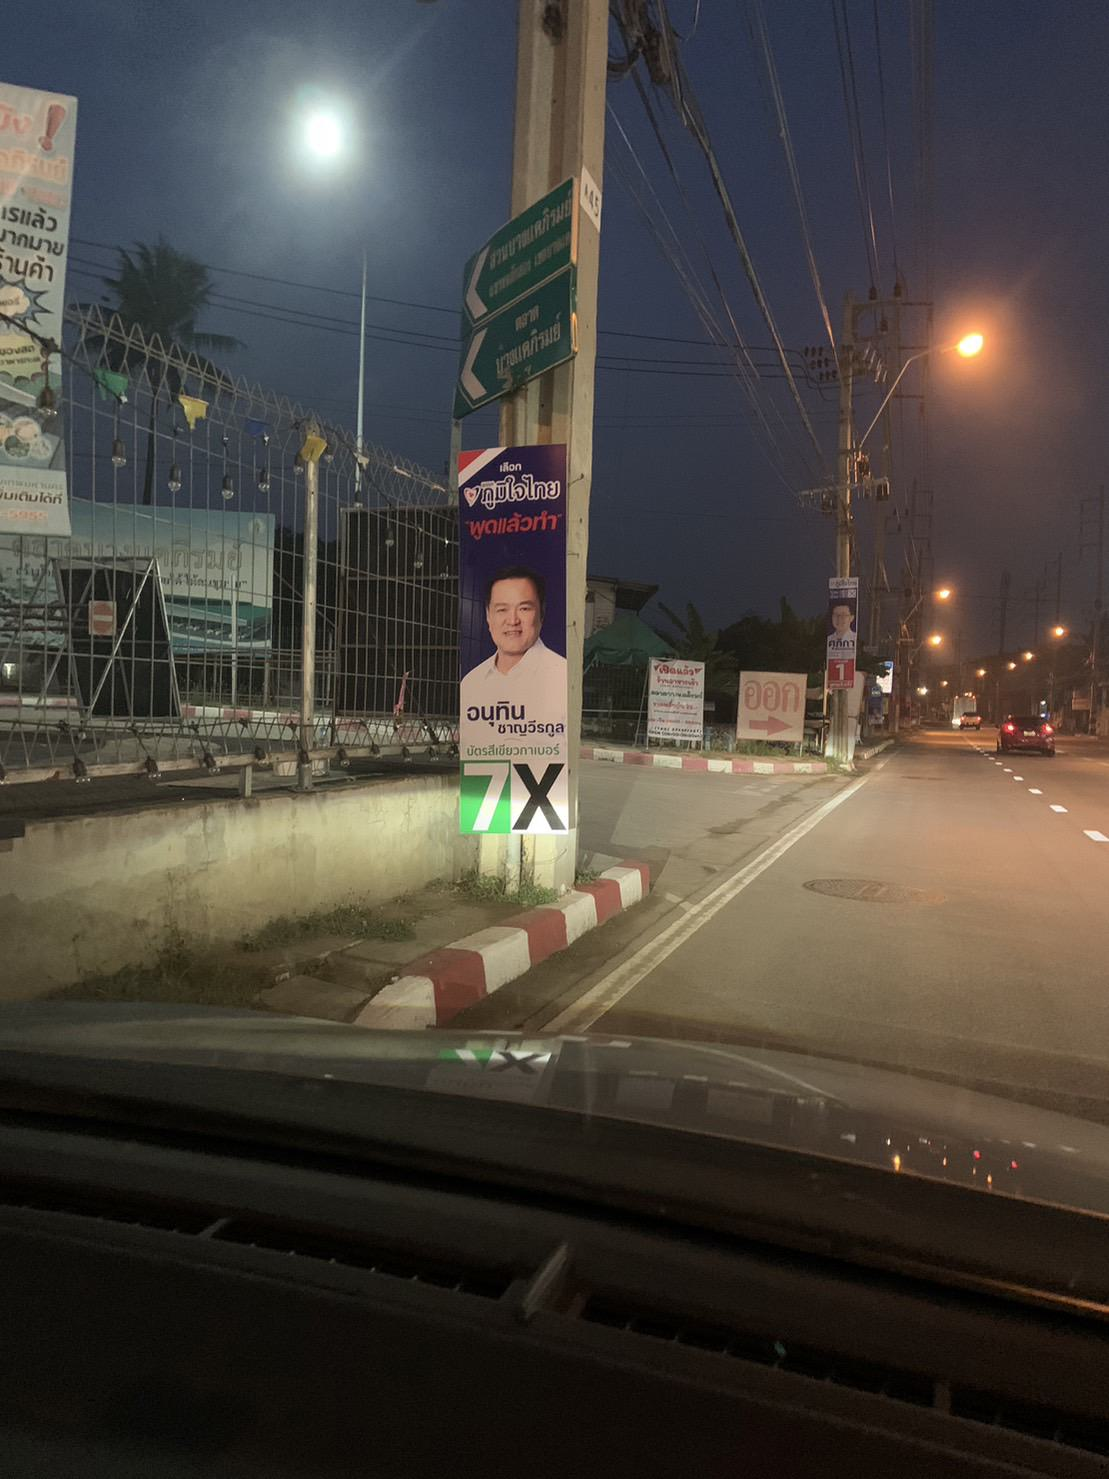Banner: (453, 450, 566, 837), (814, 575, 866, 684)
